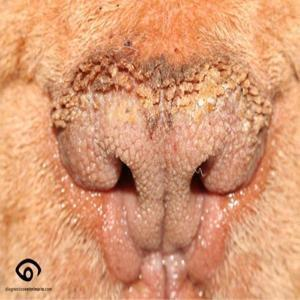keratosis: (45, 42, 286, 197)
